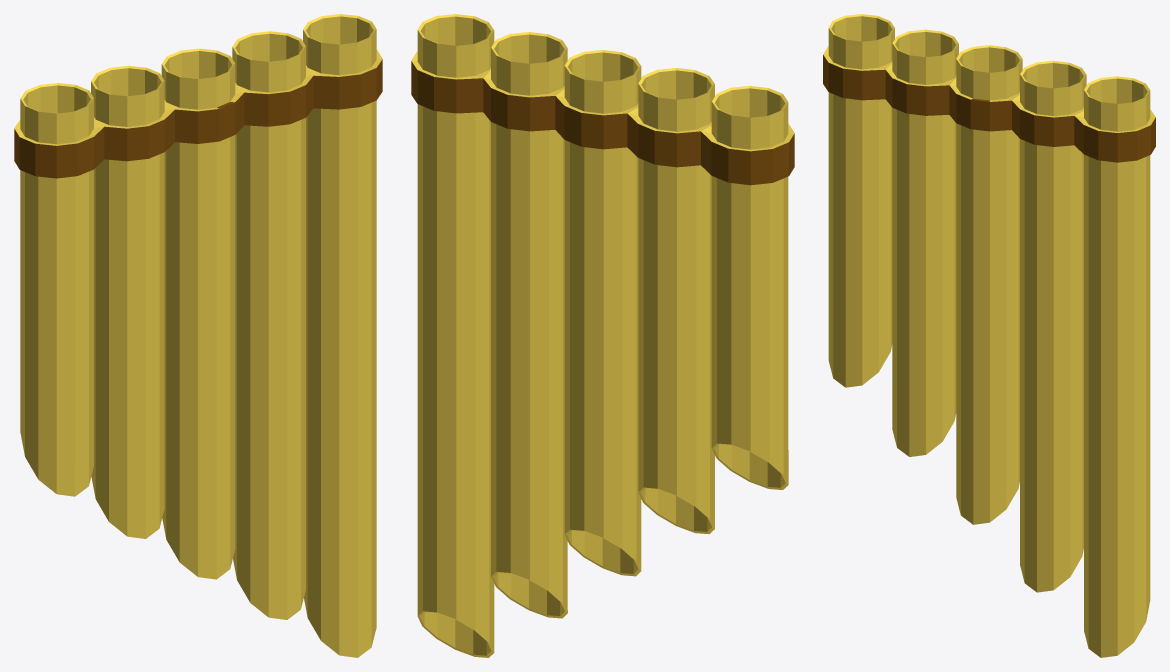
File: NiceFlute.fbx
The picture shows the model from 3 angles, left to right: view 1: azimuth 30°, elevation 25°; view 2: azimuth 150°, elevation 25°; view 3: azimuth 330°, elevation 25°; orthographic projection. The views are drawn at different scales.
Parts seen in each view (by area): view 1: Circle; view 2: Circle; view 3: Circle.
Boxes of the visible parts, x1,y1,x2,y2 form: Circle: (14, 14, 382, 657); Circle: (411, 14, 794, 657); Circle: (823, 14, 1155, 657).
Bounding box in the file's own units: 745 × 1225 × 151.
